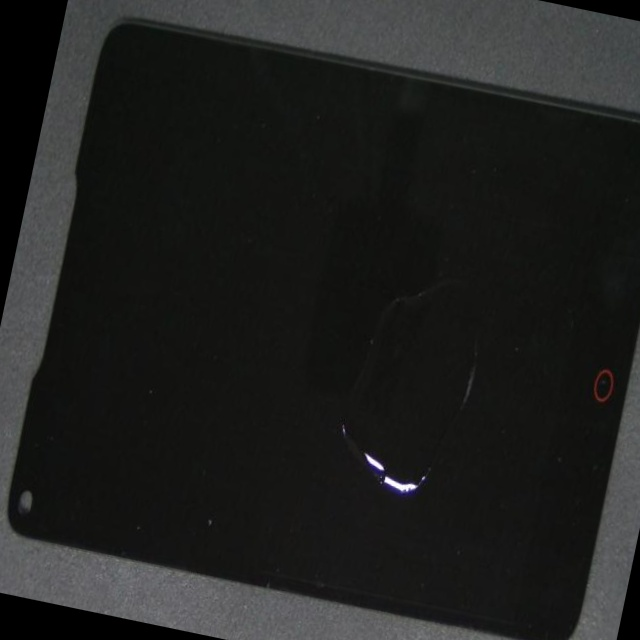oil: (147, 264, 640, 640)
